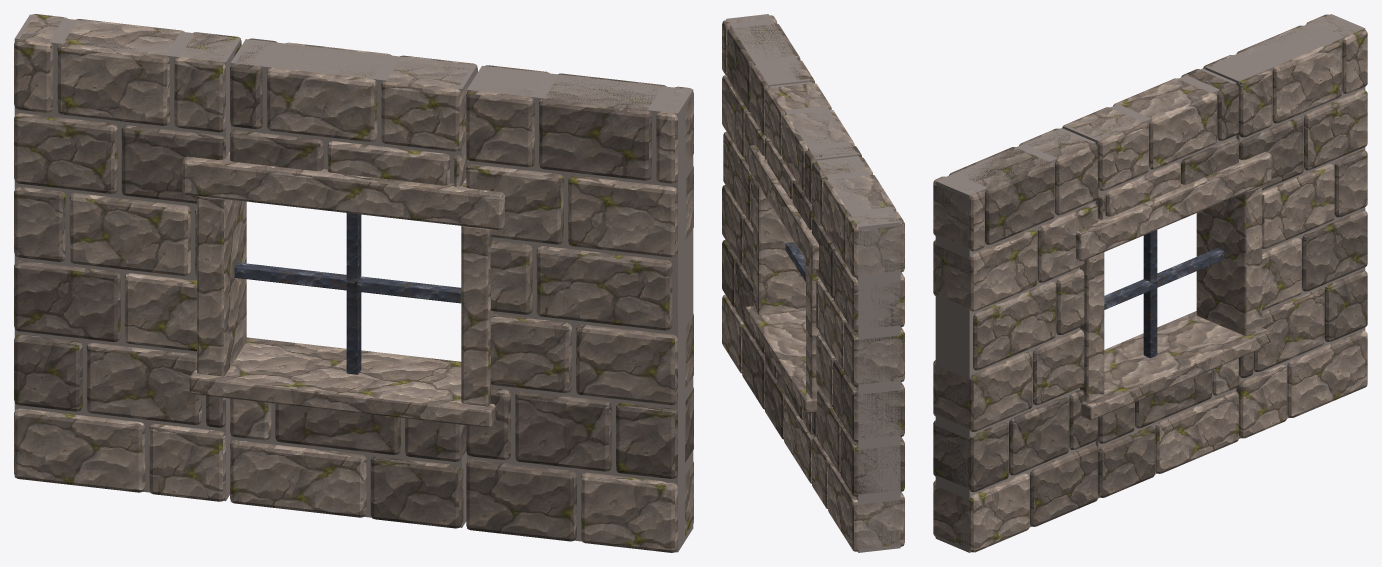
The model's file is window_diagonal__cut_stone.glb.
3 renders of one model, left to right at view 1: azimuth 30°, elevation 25°; view 2: azimuth 150°, elevation 25°; view 3: azimuth 270°, elevation 25°, orthographic. The views are drawn at different scales.
Visible parts, largest first — view 1: model; view 2: model; view 3: model.
Part boxes in pixels (box(x1,y1,x2,y2)): model: box(14, 14, 693, 552); model: box(722, 14, 904, 552); model: box(933, 14, 1367, 552).
Bounding box in the file's own units: 2.18 × 1.98 × 2.18.
6 materials, 5 textured.
